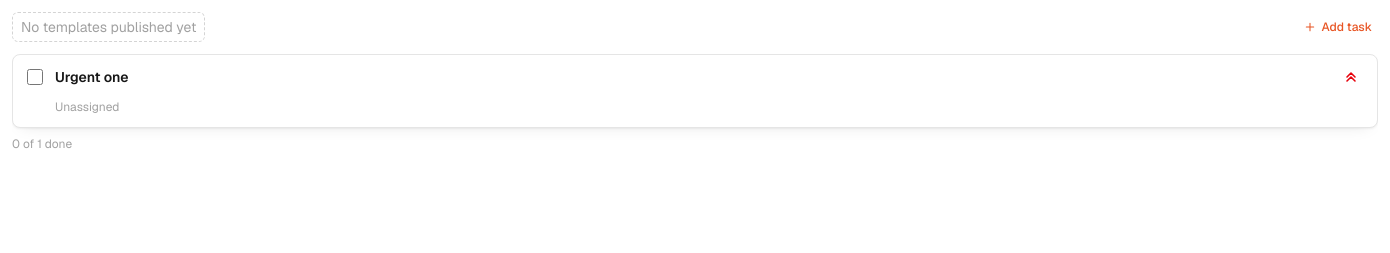
the workflow’s tasks › a refused priority change is put back, with the reason
The width and height of the screenshot is (1390, 253).
Click the button named "Change priority of Urgent one" at (1351, 77), box [1339,65,1363,89]
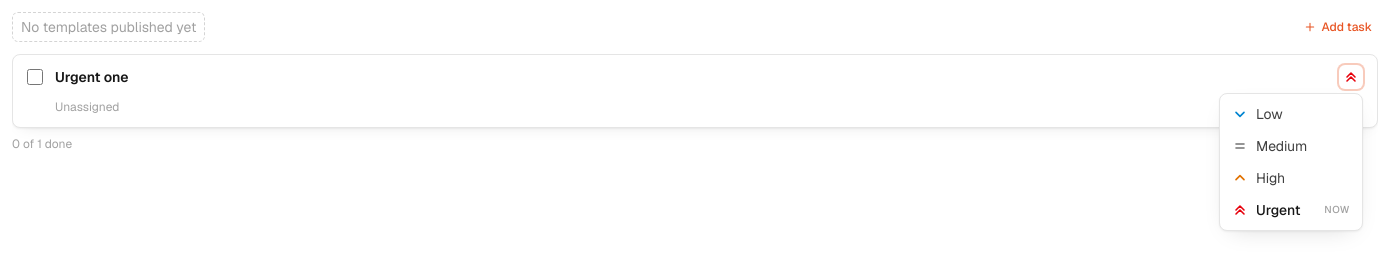
Click the menu item "Low" at (1291, 114), box [1224,98,1358,130]
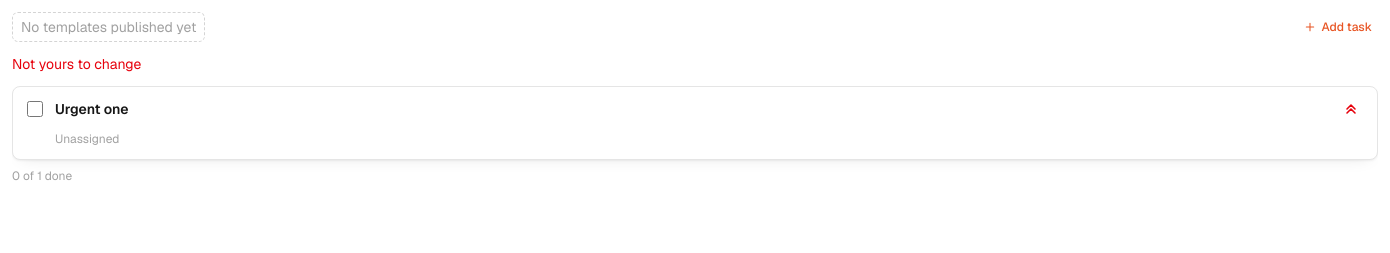
Check: the button named "Priority: Urgent." is shown, box [1339,97,1363,121]
Check: the message reads "Not yours to change", box [12,55,141,73]
